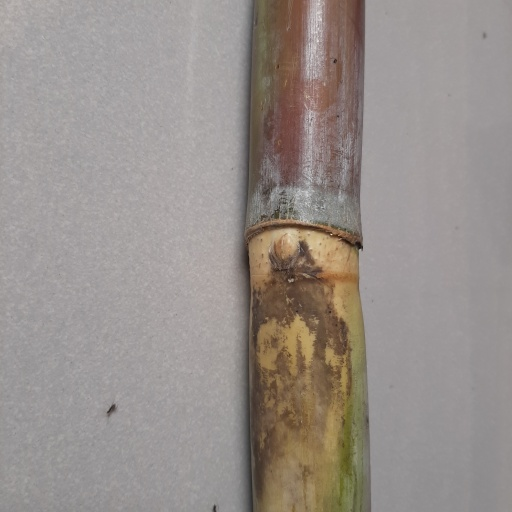Bud: (272, 232, 300, 265)
